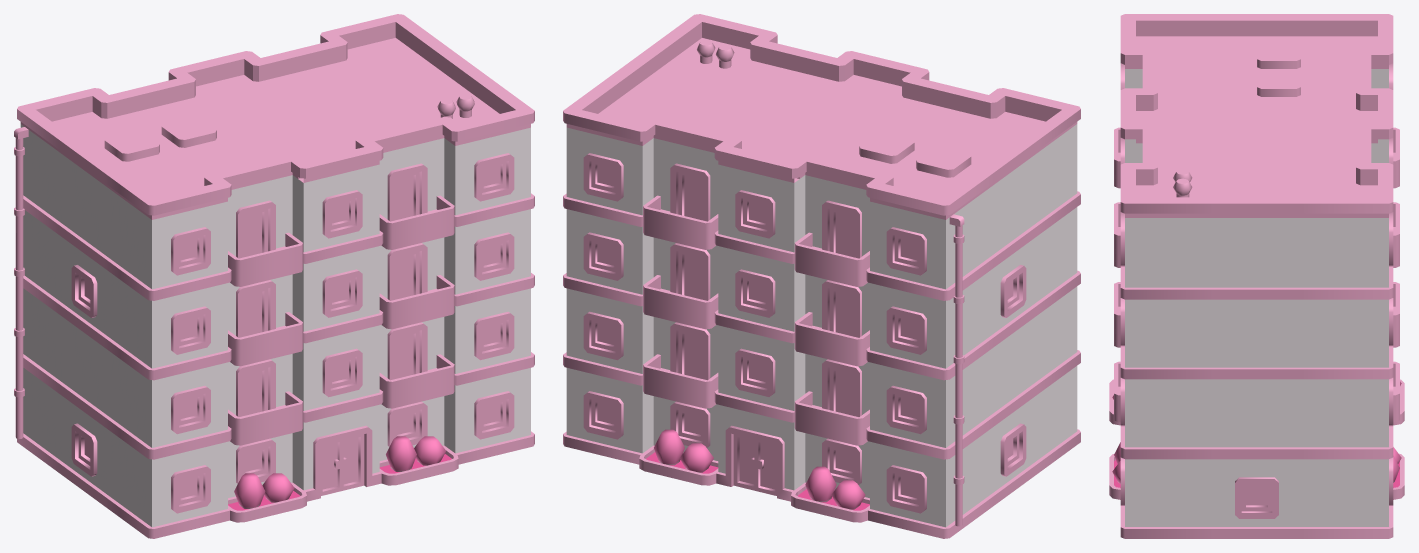
The model's file is building_j.obj.
The picture shows the model from 3 angles, left to right: view 1: azimuth 30°, elevation 25°; view 2: azimuth 150°, elevation 25°; view 3: azimuth 270°, elevation 25°; orthographic projection.
Parts seen in each view (by area): view 1: building-j; view 2: building-j; view 3: building-j.
Part boxes in pixels (x1,y1,x2,y2): building-j: [14, 14, 534, 538]; building-j: [563, 14, 1080, 538]; building-j: [1109, 14, 1404, 538].
Size of the model in its own units: 41.67 by 33.86 by 26.8.
Materials: 1 (1 with a texture image).
